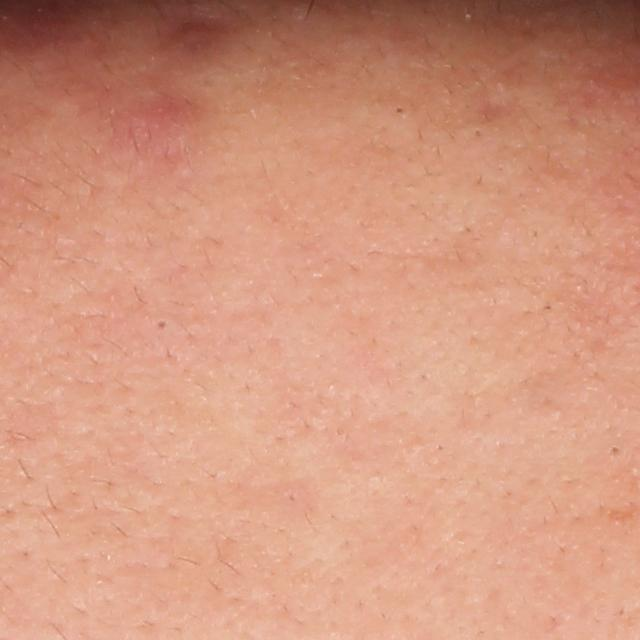comedo: (151, 314, 175, 337), (390, 100, 411, 121), (604, 442, 625, 461), (471, 126, 485, 140)
